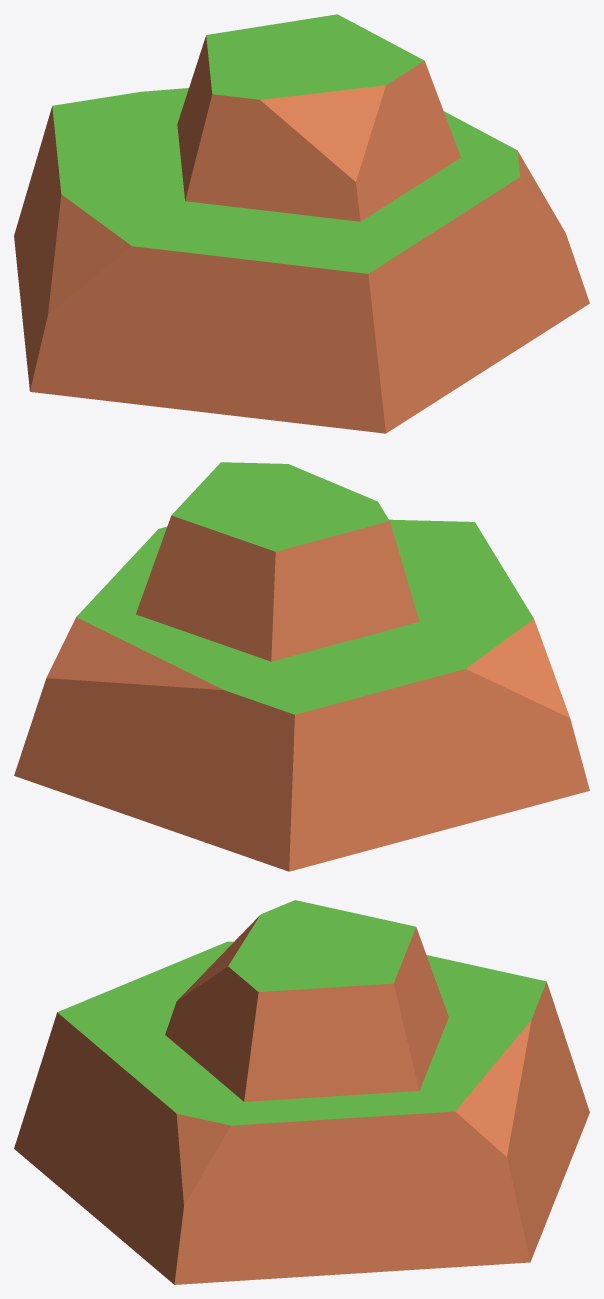
File: rock_smallTopA.glb
3 renders of one model, top to bottom at view 1: azimuth 30°, elevation 25°; view 2: azimuth 150°, elevation 25°; view 3: azimuth 270°, elevation 25°, orthographic. The views are drawn at different scales.
Parts seen in each view (by area): view 1: rock_smallTopA; view 2: rock_smallTopA; view 3: rock_smallTopA.
Part boxes in pixels (left/top/right/bottom): rock_smallTopA: left=14, top=14, right=589, bottom=433; rock_smallTopA: left=14, top=462, right=589, bottom=871; rock_smallTopA: left=14, top=900, right=589, bottom=1284.
Size of the model in its own units: 0.4877 by 0.22 by 0.4891.
